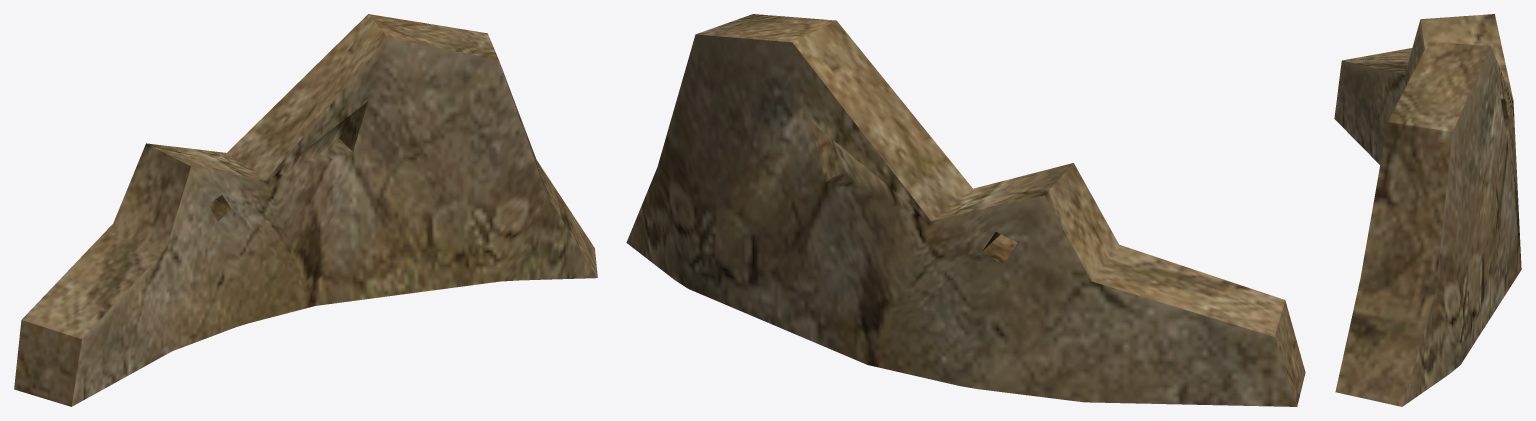
File: double_03.fbx
3 views of the same model, side by side, from view 1: azimuth 30°, elevation 25°; view 2: azimuth 150°, elevation 25°; view 3: azimuth 270°, elevation 25° (orthographic). The views are drawn at different scales.
Visible parts, largest first — view 1: objdouble_03; view 2: objdouble_03; view 3: objdouble_03.
Part boxes in pixels (x1,y1,x2,y2): objdouble_03: (14, 14, 597, 406); objdouble_03: (626, 14, 1305, 406); objdouble_03: (1334, 14, 1521, 406).
Size of the model in its own units: 3.88 by 1.59 by 1.02.
